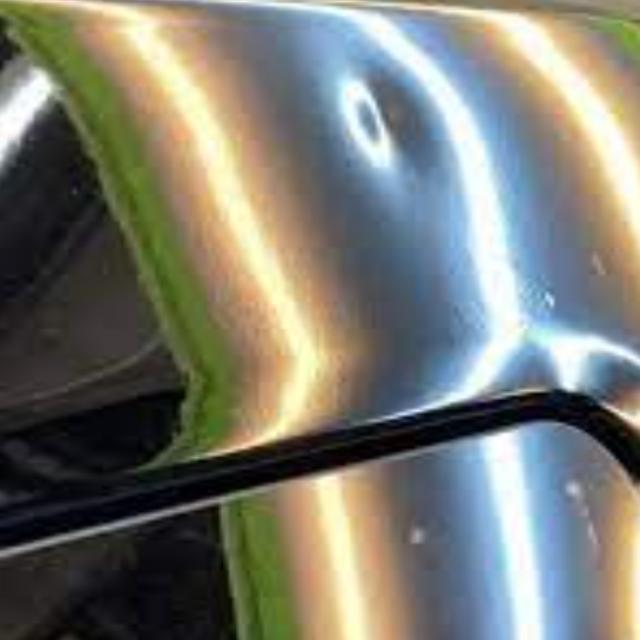dents: (324, 48, 456, 185)
